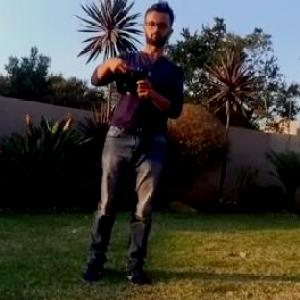follow: (73, 0, 188, 299)
